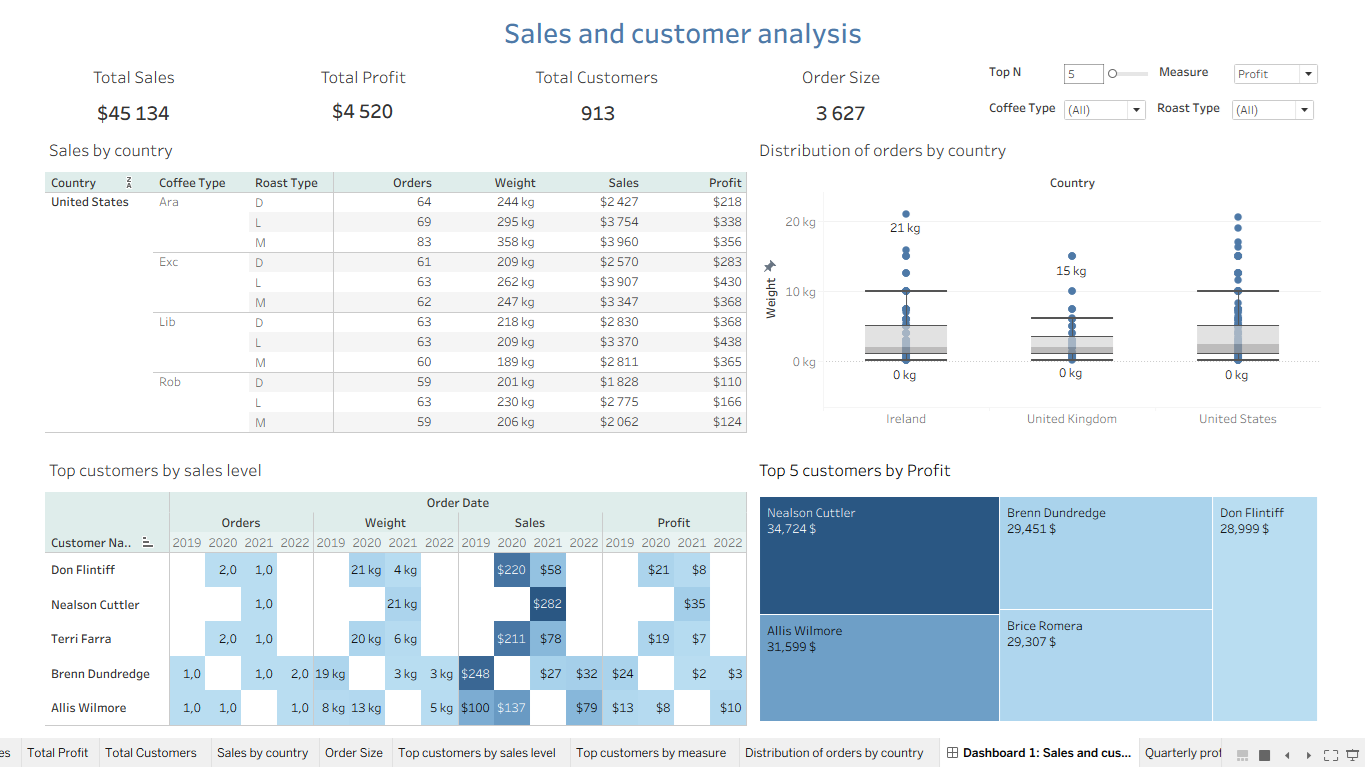

The dashboard page shown, as its layout file describes it:
{"tool":"tableau","page":{"name":"Dashboard 1: Sales and customer analysis","canvas":[1000,1000],"units":"permille","ordinal":1},"visuals":[{"type":"title","box":[7,11.4,986,65.7]},{"type":"worksheet","title":"Total Sales","mark":"Automatic","box":[7,77.2,163.3,98.9]},{"type":"worksheet","title":"Total Profit","mark":"Automatic","box":[170.3,77.2,189.1,98.9]},{"type":"worksheet","title":"Total Customers ","mark":"Automatic","box":[359.4,77.2,151.3,98.9]},{"type":"worksheet","title":"Order Size","mark":"Automatic","box":[510.7,77.2,183.8,98.9]},{"type":"parameter","param":"[Parameters].[Parameter 1]","box":[694.5,77.2,149.2,49.5]},{"type":"parameter","param":"[Parameters].[Parameter 2]","box":[843.7,77.2,149.2,49.5]},{"type":"filter","title":"Top customers by sales level","param":"[federated.1yeuhn30susrmr14ownrd0e1zkn2].[none:Coffee Type (products):nk]","box":[694.5,126.6,147.5,49.5]},{"type":"filter","title":"Top customers by sales level","param":"[federated.1yeuhn30susrmr14ownrd0e1zkn2].[none:Roast Type (products):nk]","box":[842,126.6,147.5,49.5]},{"type":"worksheet","title":"Sales by country","mark":"Automatic","rows":["Country (customers)","Coffee Type (products)","Roast Type (products)"],"box":[7,176.1,545.1,433.9]},{"type":"worksheet","title":"Distribution of orders by country","mark":"Circle","rows":["Calculation_1317506235629569"],"cols":["Country (customers)"],"box":[552.1,176.1,440.9,433.9]},{"type":"worksheet","title":"Top customers by sales level","mark":"Square","rows":["Customer Name (customers)"],"cols":["Order Date"],"box":[7,610,545.1,378.6]},{"type":"worksheet","title":"Top customers by measure","mark":"Automatic","box":[552.1,610,440.9,378.6]}]}

Visuals, with their boxes on the dashboard's canvas, which has no fixed pixel size, in thousandths of its width and height (x1, y1, x2, y2). These are canvas units, not pixel positions in the 1365x767 screenshot, which may show the page scaled, cropped or inside an application window:
title: x1=7, y1=11, x2=993, y2=77
"Total Sales" worksheet: x1=7, y1=77, x2=170, y2=176
"Total Profit" worksheet: x1=170, y1=77, x2=359, y2=176
"Total Customers " worksheet: x1=359, y1=77, x2=511, y2=176
"Order Size" worksheet: x1=511, y1=77, x2=694, y2=176
parameter: x1=694, y1=77, x2=844, y2=127
parameter: x1=844, y1=77, x2=993, y2=127
"Top customers by sales level" filter: x1=694, y1=127, x2=842, y2=176
"Top customers by sales level" filter: x1=842, y1=127, x2=990, y2=176
"Sales by country" worksheet: x1=7, y1=176, x2=552, y2=610
"Distribution of orders by country" worksheet (Circle marks): x1=552, y1=176, x2=993, y2=610
"Top customers by sales level" worksheet (Square marks): x1=7, y1=610, x2=552, y2=989
"Top customers by measure" worksheet: x1=552, y1=610, x2=993, y2=989
